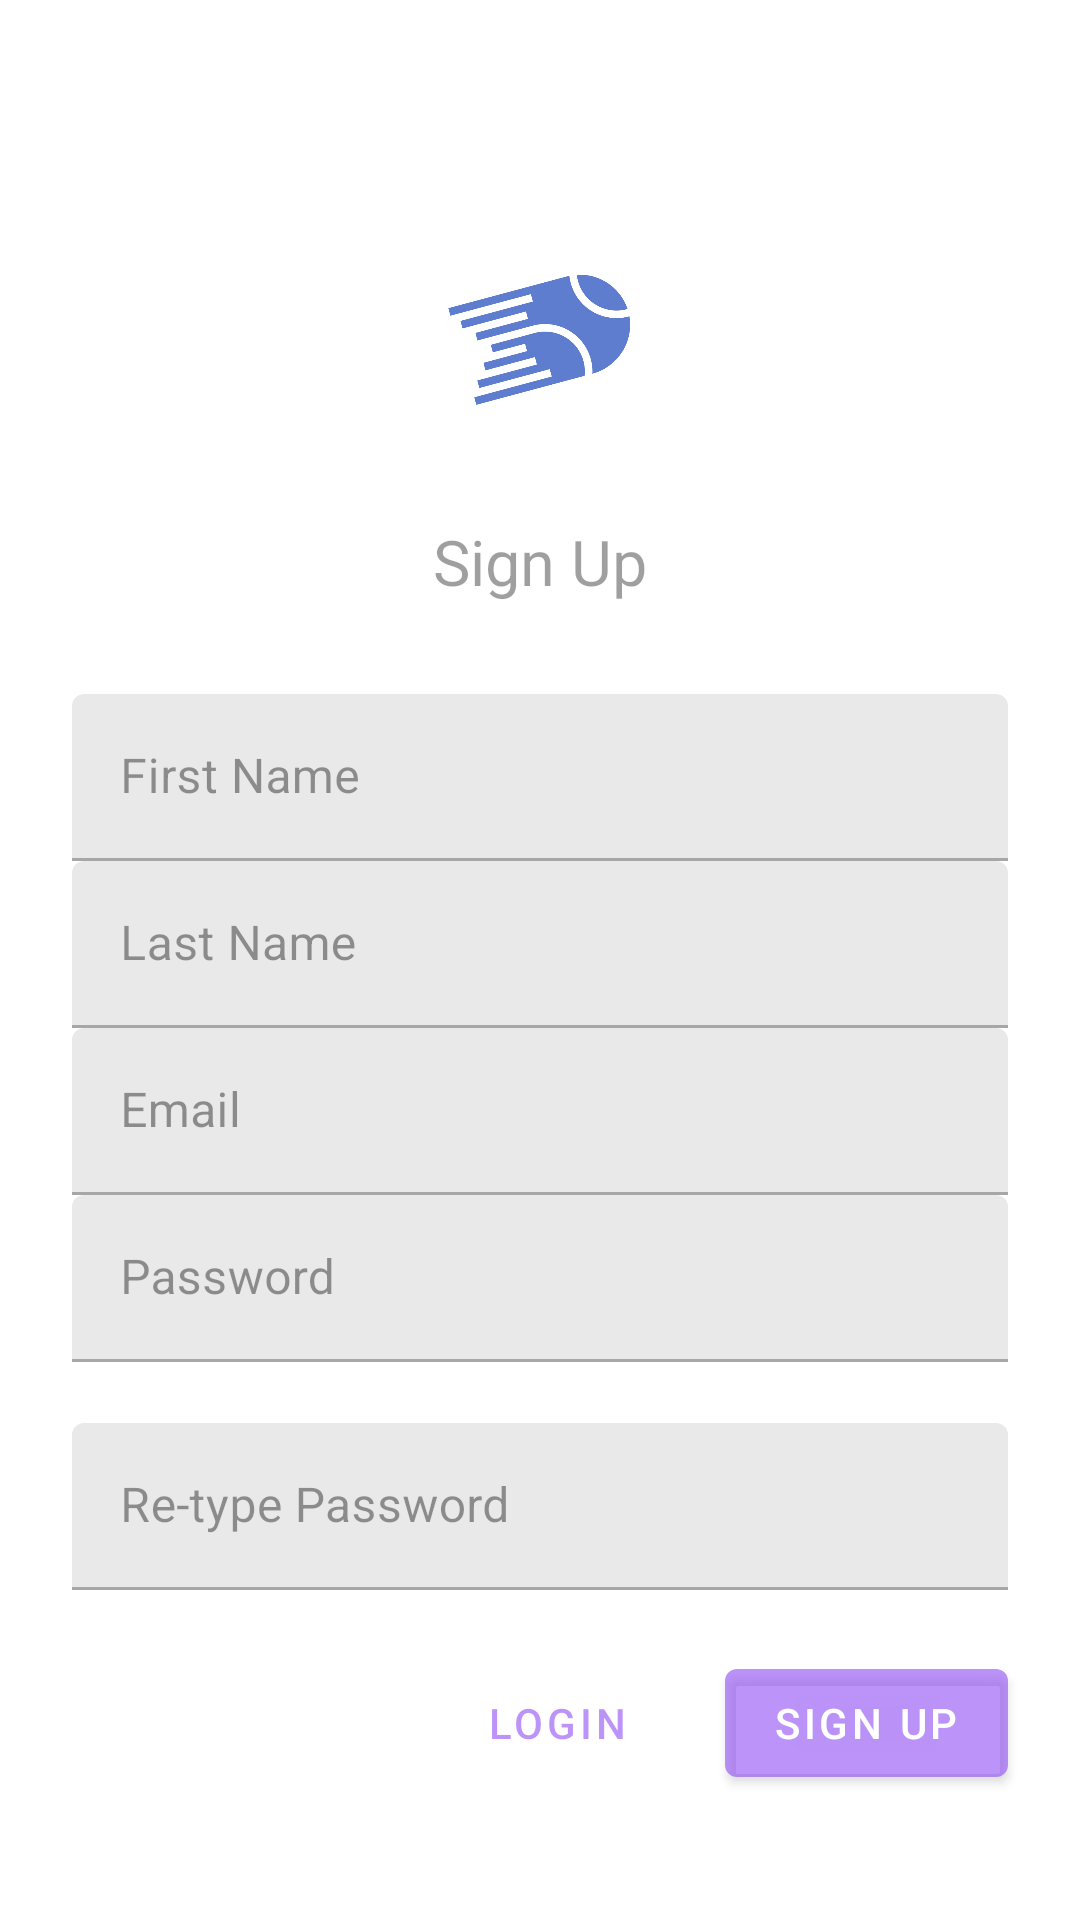

Where icons sit on this 1080 × 1920 app screen, as (x1, y1, x2, y2):
tennis tracker: (448, 275, 630, 405)
